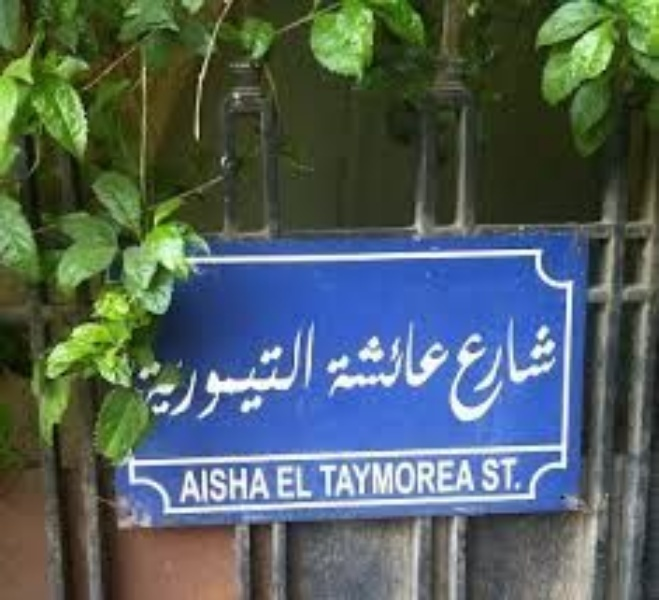text: (449, 315, 464, 424), (465, 315, 480, 424), (481, 315, 496, 424), (497, 315, 512, 424), (513, 315, 528, 424), (529, 315, 544, 424), (145, 315, 160, 424), (161, 315, 176, 424), (177, 315, 192, 424), (193, 315, 208, 424), (209, 315, 224, 424), (225, 315, 240, 424), (241, 315, 256, 424), (257, 315, 272, 424), (273, 315, 288, 424), (289, 315, 304, 424), (305, 315, 320, 424), (545, 315, 559, 424), (337, 317, 352, 399), (353, 317, 368, 399), (369, 317, 384, 399), (385, 317, 400, 399), (401, 317, 416, 399), (417, 317, 432, 399), (433, 317, 448, 399), (323, 317, 336, 399), (321, 455, 336, 502), (337, 455, 352, 502), (353, 455, 368, 502), (369, 455, 384, 502), (385, 455, 400, 502), (401, 455, 416, 502), (417, 455, 432, 502), (433, 455, 448, 502), (449, 455, 464, 502), (138, 315, 144, 424), (273, 460, 288, 502), (289, 460, 304, 502), (481, 452, 496, 494), (497, 452, 512, 494), (465, 455, 477, 502), (193, 466, 208, 502), (209, 466, 224, 502), (225, 466, 240, 502), (241, 466, 256, 502), (309, 455, 320, 502), (257, 466, 270, 502), (180, 466, 192, 502), (305, 460, 315, 502), (513, 452, 522, 494), (449, 317, 452, 399), (321, 315, 323, 424), (477, 452, 480, 494)
